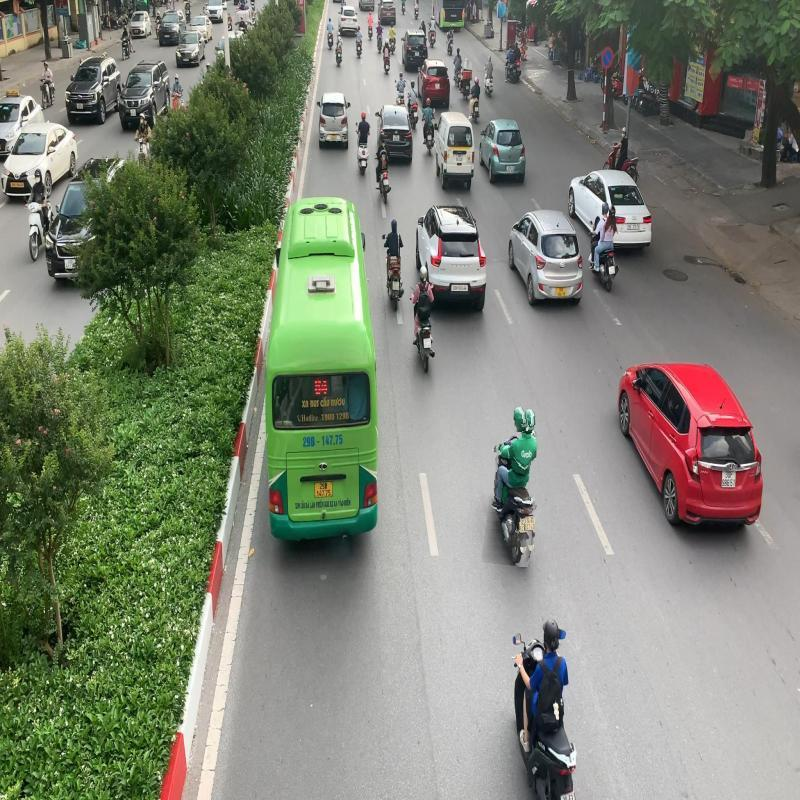helmet: (513, 406, 529, 432)
licenseplate: (524, 515, 535, 531)
motorcyclist: (486, 403, 542, 566)
